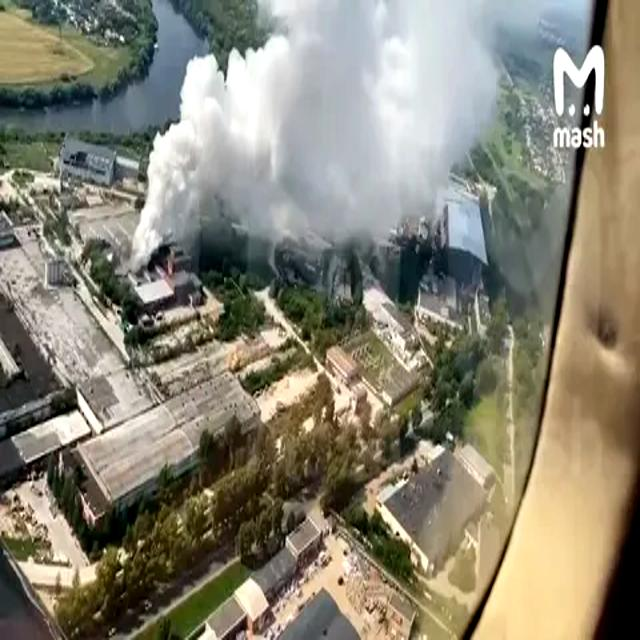Smoke: (133, 0, 510, 274)
